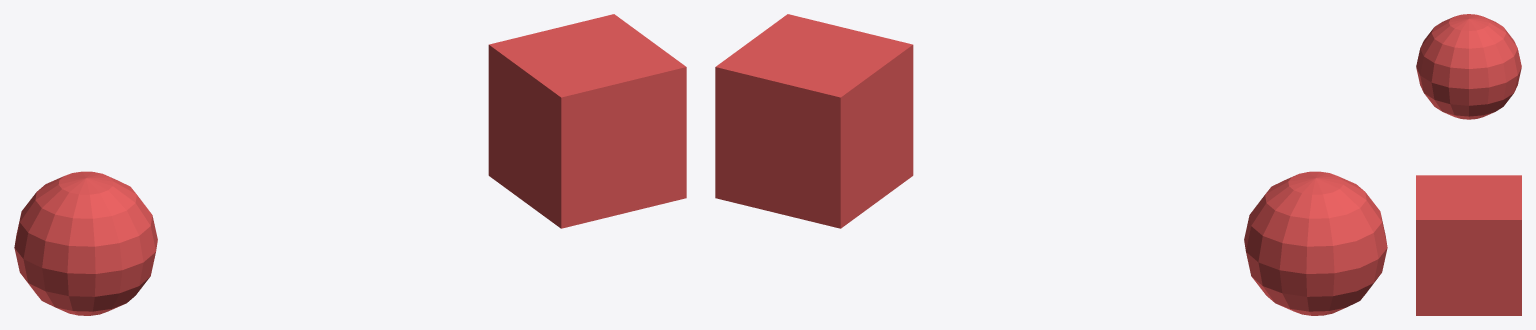
Rendered from two_objects_assimp.glb.
3 views of the same model, side by side, from view 1: azimuth 30°, elevation 25°; view 2: azimuth 150°, elevation 25°; view 3: azimuth 270°, elevation 25° (orthographic). The views are drawn at different scales.
Visible parts, largest first — view 1: Box, Ball; view 2: Box, Ball; view 3: Box, Ball.
Boxes of the visible parts, x1,y1,x2,y2 form: Box: (488,14,686,228); Ball: (14,171,157,315); Box: (715,14,913,228); Ball: (1244,171,1387,315); Box: (1416,175,1521,315); Ball: (1416,14,1521,119).
Bounding box in the file's own units: 5 × 1 × 1.
